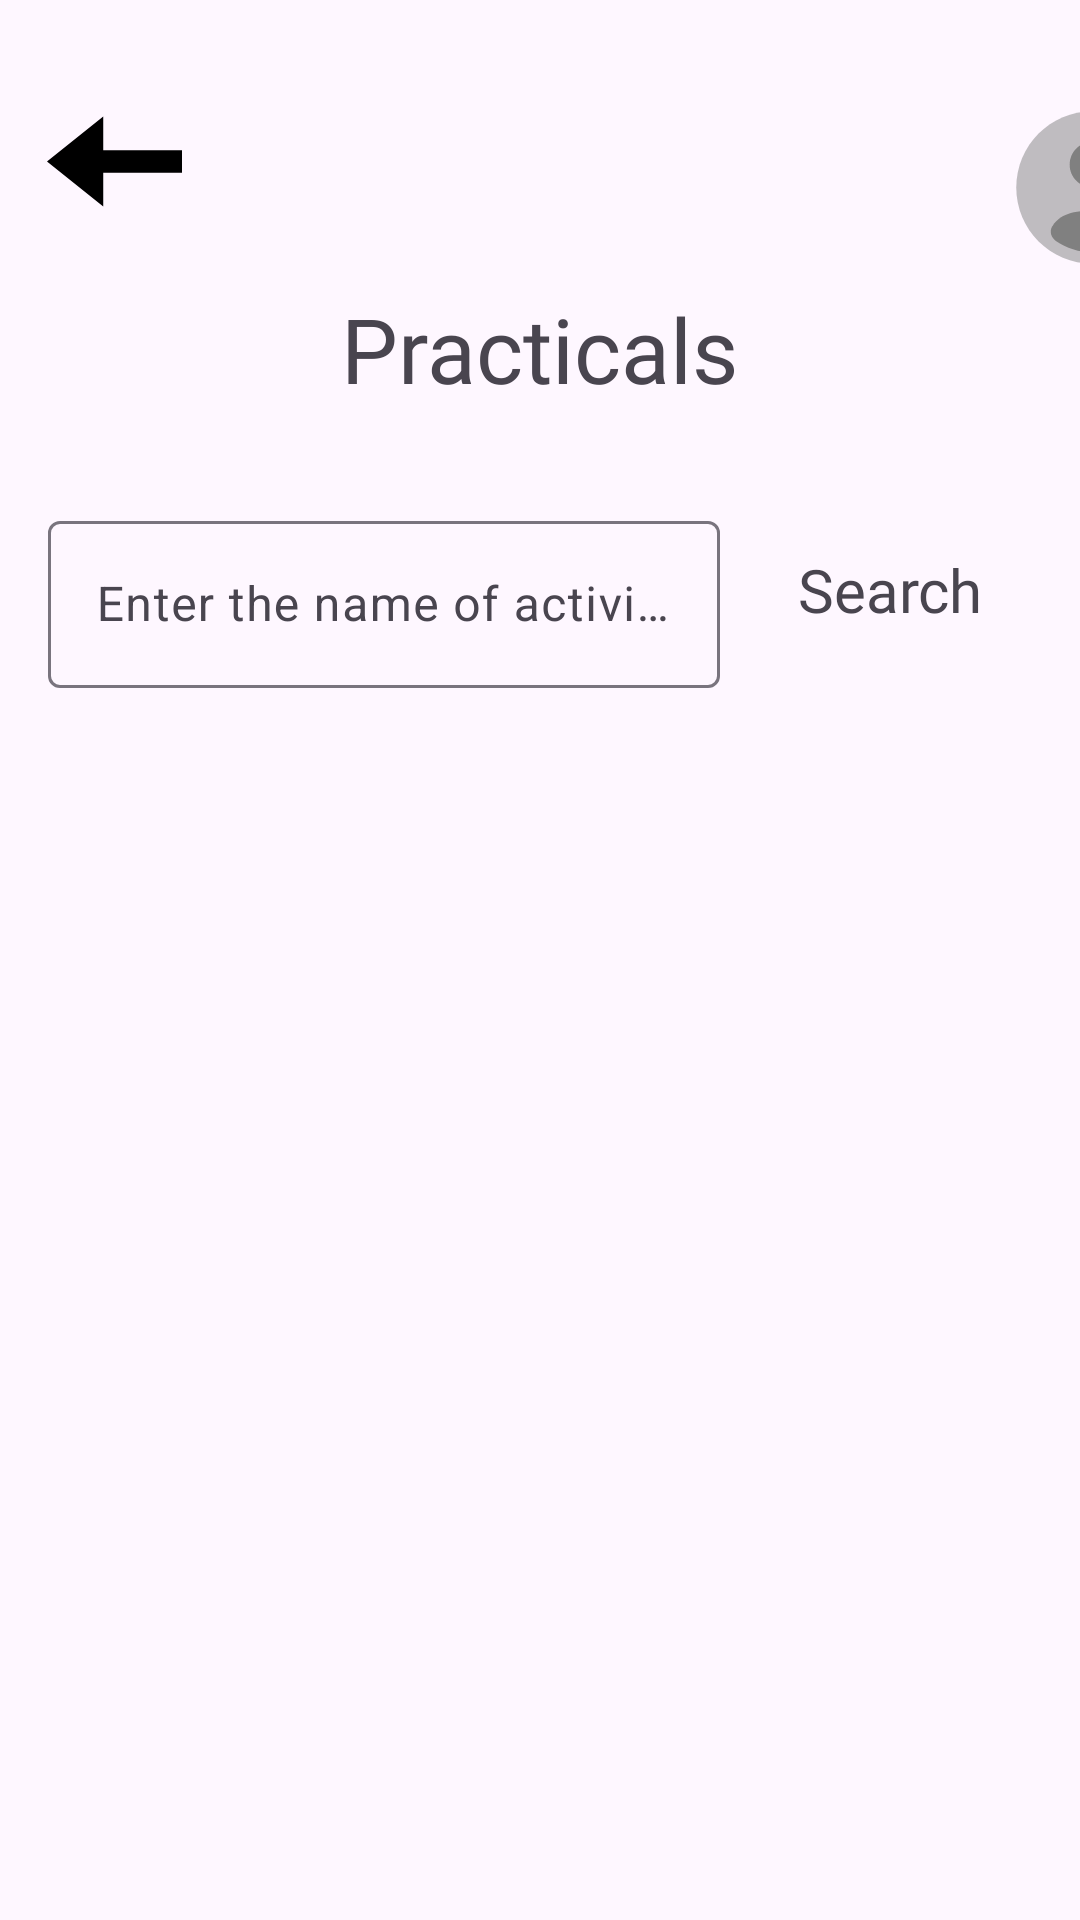

Point at icon controls on the screen. Image size 1080w x 1920h, points as (x,y).
left arrow: (114,161)
